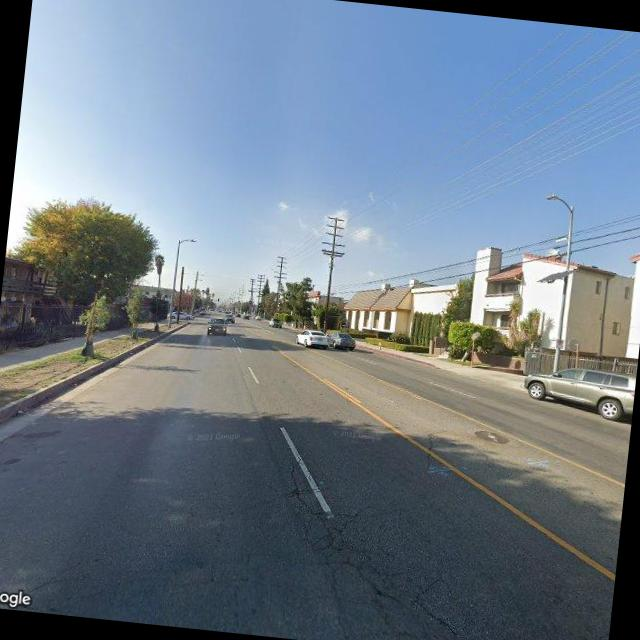pothole: (266, 442, 459, 636)
